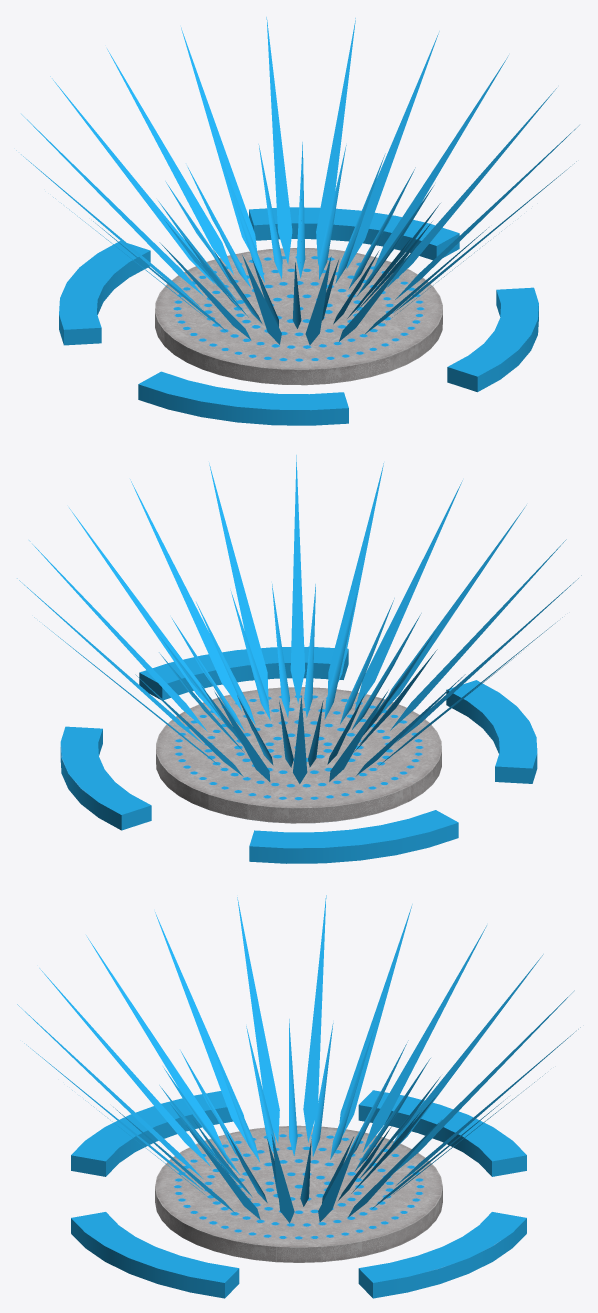
File: BaseHolograma.fbx
3 views of the same model, one above another, from view 1: azimuth 30°, elevation 25°; view 2: azimuth 150°, elevation 25°; view 3: azimuth 270°, elevation 25° (orthographic).
Visible parts, largest first — view 1: BaseHolograma; view 2: BaseHolograma; view 3: BaseHolograma.
Part boxes in pixels (x1,y1,x2,y2): BaseHolograma: [16, 17, 579, 425]; BaseHolograma: [17, 455, 581, 863]; BaseHolograma: [17, 895, 580, 1298].
Size of the model in its own units: 235 by 86.01 by 235.
